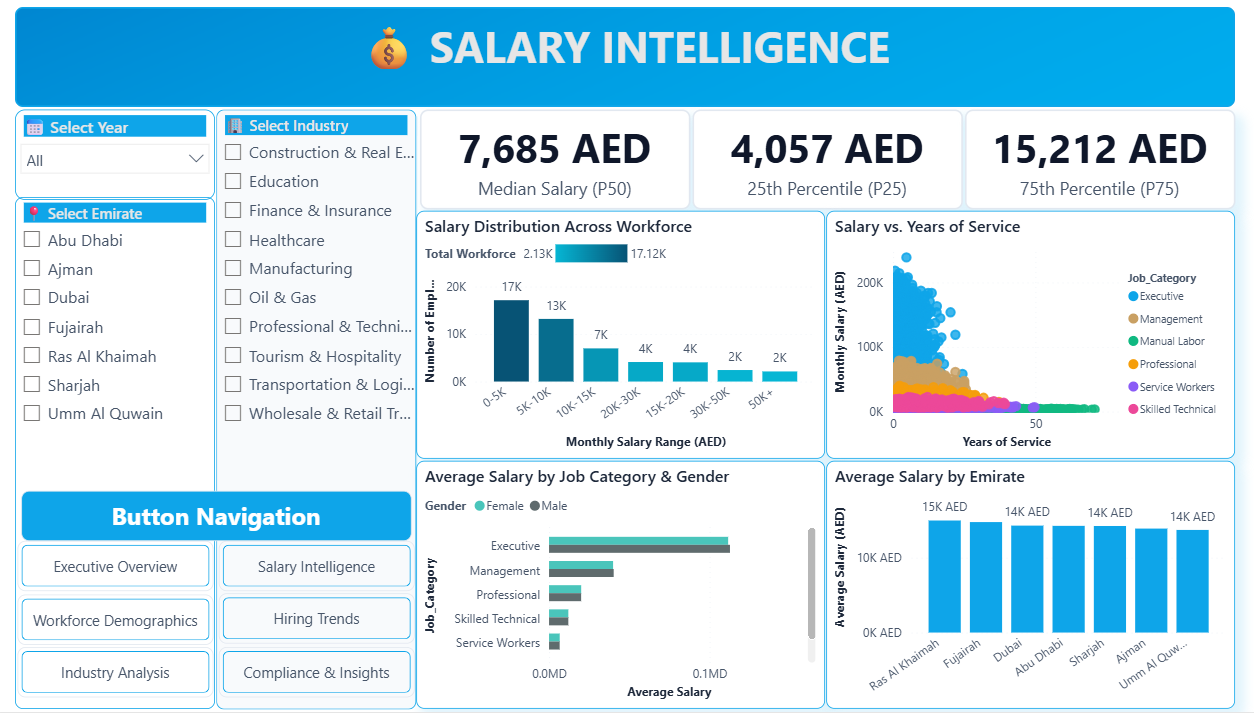

What the dashboard file says about the page in this screenshot:
{"tool":"powerbi","page":{"name":"Salary Intelligence","canvas":[1280,720],"ordinal":3},"visuals":[{"type":"image","box":[30,14.8,1220,100.1],"z":0},{"type":"textbox","box":[30,14.8,1220,100.1],"z":1000},{"type":"card","fields":{"Values":["All Measures.Median Salary"]},"box":[435.1,117.5,270,100],"z":2000},{"type":"card","fields":{"Values":["All Measures.Salary P25"]},"box":[707.6,117.5,270,100],"z":3000},{"type":"card","fields":{"Values":["All Measures.Salary P75"]},"box":[980,117.5,270,100],"z":4000},{"type":"clusteredColumnChart","title":"Salary Distribution Across Workforce","fields":{"Y":["All Measures.Total Workforce"],"Category":["workforce_data.Salary Range"]},"box":[431.6,218.5,409,248],"z":5000},{"type":"slicer","fields":{"Values":["Date.Year"]},"box":[30,117.5,200,90],"z":6000},{"type":"slicer","fields":{"Values":["workforce_data.Emirate"]},"box":[30,205.5,200,512],"z":7000},{"type":"slicer","fields":{"Values":["workforce_data.Industry"]},"box":[230.7,117,200.3,600],"z":8000},{"type":"scatterChart","title":"Salary vs. Years of Service","fields":{"X":["Sum(workforce_data.Years_of_Service)"],"Y":["workforce_data.Monthly_Salary_AED"],"Series":["workforce_data.Job_Category"]},"box":[841.2,218.5,408.8,248],"z":9000},{"type":"clusteredBarChart","title":"Average Salary by Job Category & Gender","fields":{"Category":["workforce_data.Job_Category"],"Y":["All Measures.Average Salary"],"Series":["workforce_data.Gender"]},"box":[431.6,468.8,408.8,248],"z":10000},{"type":"clusteredColumnChart","title":"Average Salary by Emirate","fields":{"Category":["workforce_data.Emirate"],"Y":["All Measures.Average Salary"]},"box":[841,469,409,248],"z":11000},{"type":"actionButton","box":[32,548.8,196,50],"z":11001},{"type":"actionButton","box":[32,601.9,196,50],"z":11002},{"type":"actionButton","box":[32,655,196,50],"z":11003},{"type":"actionButton","box":[234,548.3,196,50],"z":11004},{"type":"actionButton","box":[234,601.6,196,50],"z":11005},{"type":"actionButton","box":[234,655,196,50],"z":11006},{"type":"textbox","box":[36,498.8,390,50],"z":11007}]}

Visuals, with their boxes in screenshot pixels (x1, y1, x2, y2), scaled from the page's 1280x720 canvas onto the 1254x713 screenshot:
image: 29 15 1225 114
textbox: 29 15 1225 114
card - All Measures.Median Salary: 426 116 691 215
card - All Measures.Salary P25: 693 116 958 215
card - All Measures.Salary P75: 960 116 1225 215
"Salary Distribution Across Workforce" clusteredColumnChart: 423 216 824 462
slicer - Date.Year: 29 116 225 205
slicer - workforce_data.Emirate: 29 204 225 711
slicer - workforce_data.Industry: 226 116 422 710
"Salary vs. Years of Service" scatterChart: 824 216 1225 462
"Average Salary by Job Category & Gender" clusteredBarChart: 423 464 823 710
"Average Salary by Emirate" clusteredColumnChart: 824 464 1225 710
actionButton: 31 543 223 593
actionButton: 31 596 223 646
actionButton: 31 649 223 698
actionButton: 229 543 421 592
actionButton: 229 596 421 645
actionButton: 229 649 421 698
textbox: 35 494 417 543
